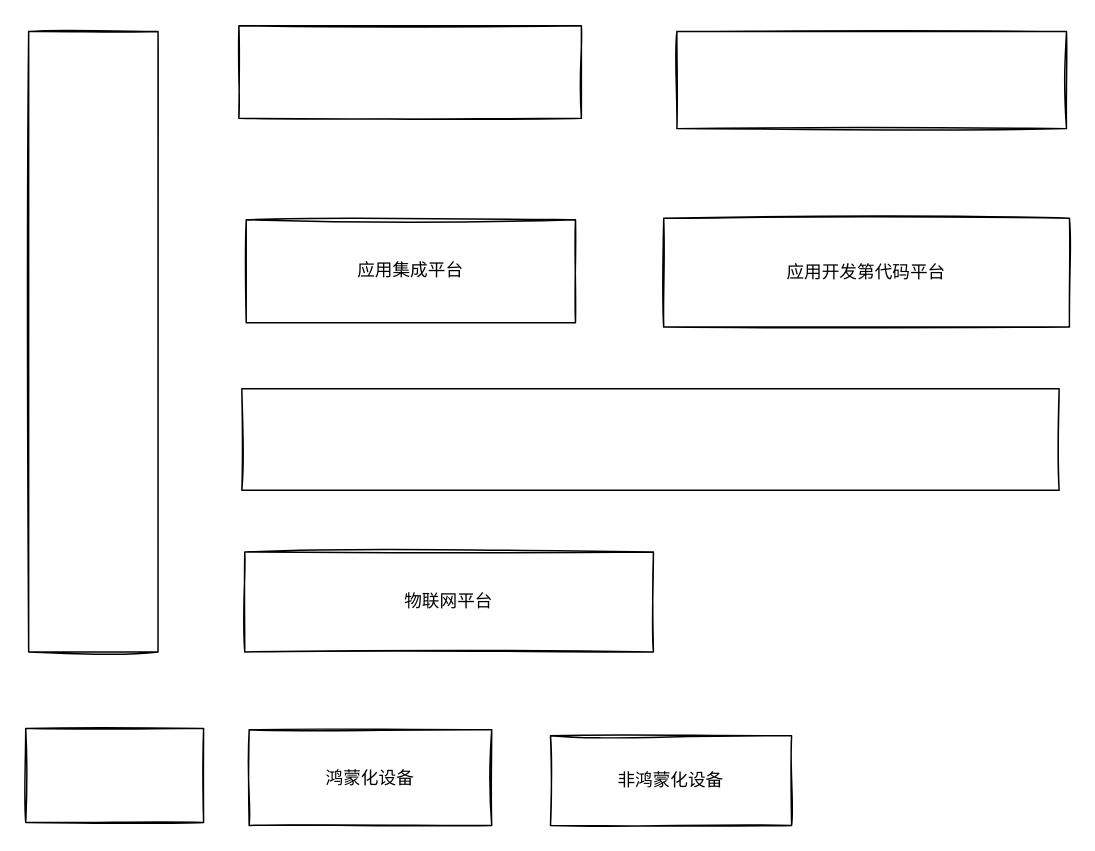
Some shapes in this 1095 by 851 pixel diagram are drawn without their labels. The box of each missing label's shape, as (x1, y1, x2, y2) in pixels:
教育专属物联网能力Kit: (240, 387, 1059, 490)
硬件生态厂家: (24, 727, 204, 822)
能力开放平台: (27, 30, 158, 652)
